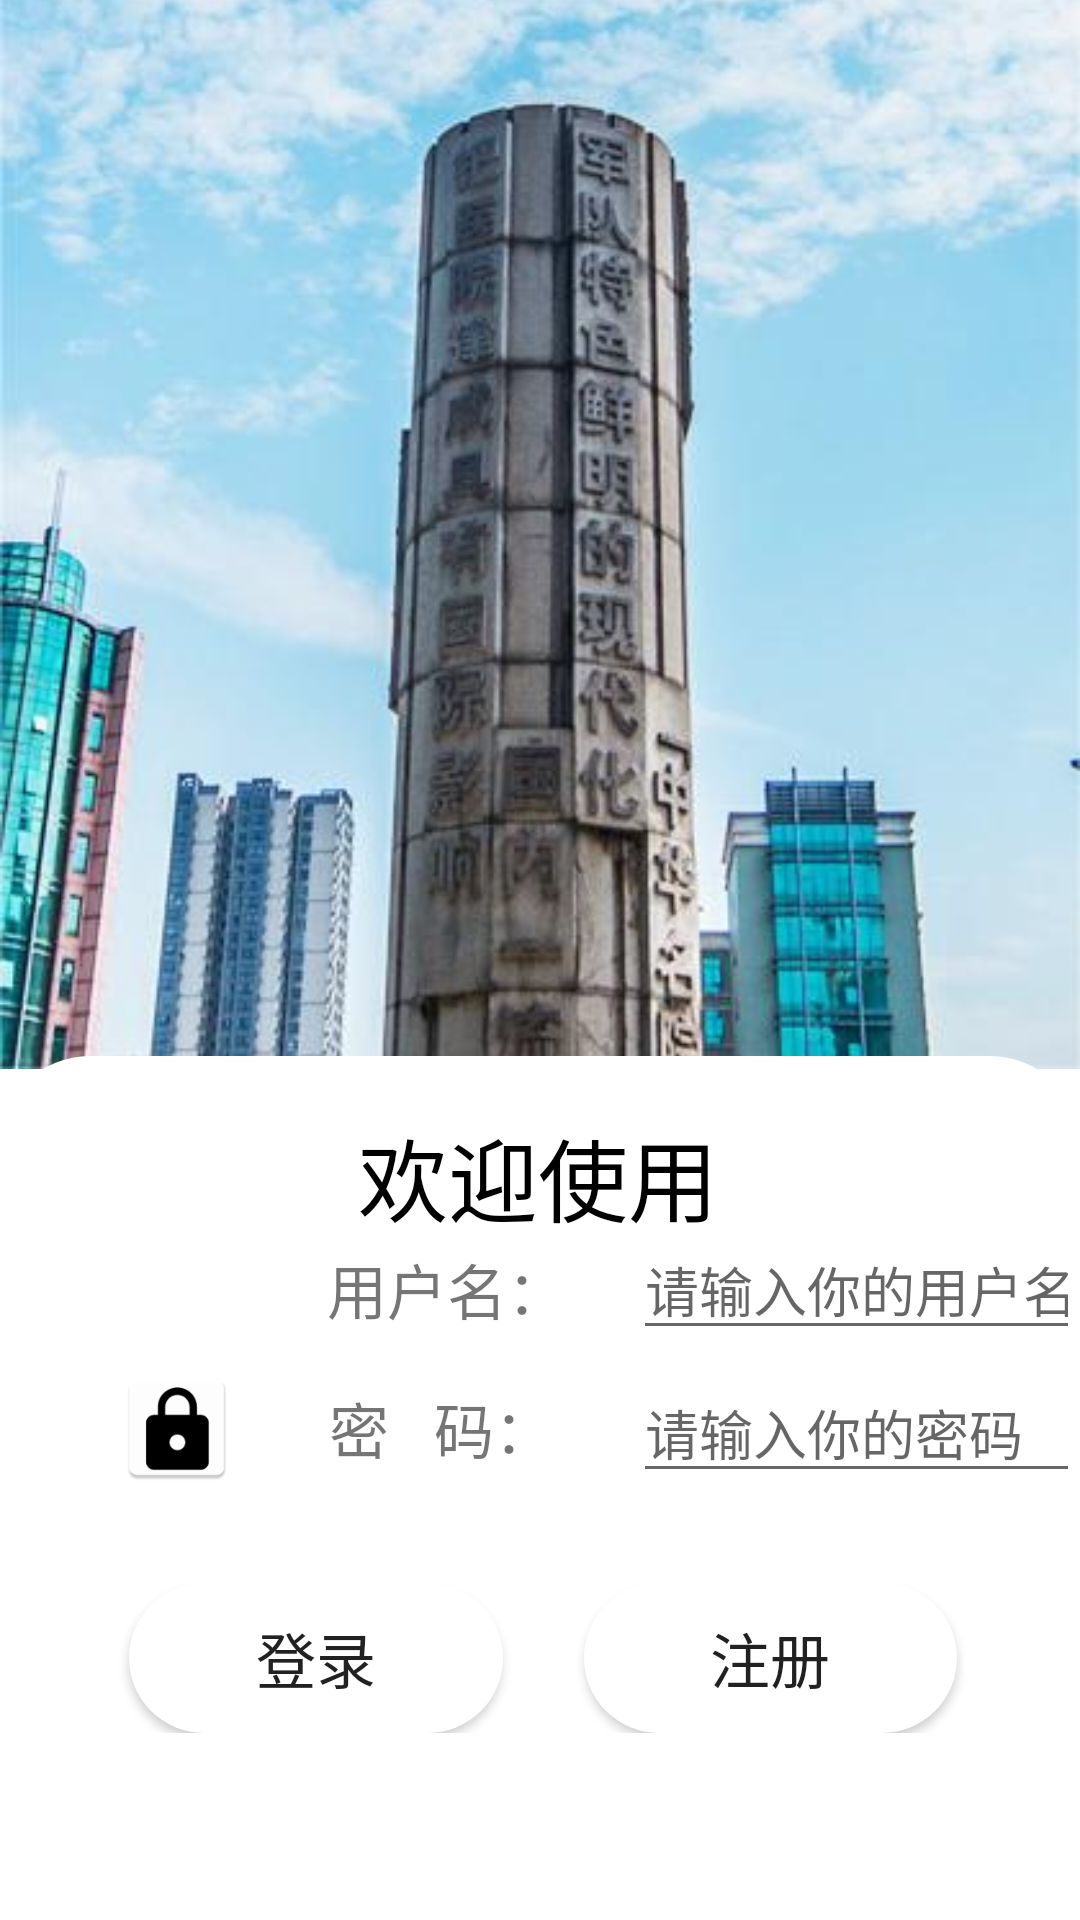

Icon bounding boxes for this 1080 x 1920 phone screenshot, format (x1=x1, y1=y1, x2=x2, y2=y2):
password: (x1=130, y1=1387, x2=225, y2=1479)
